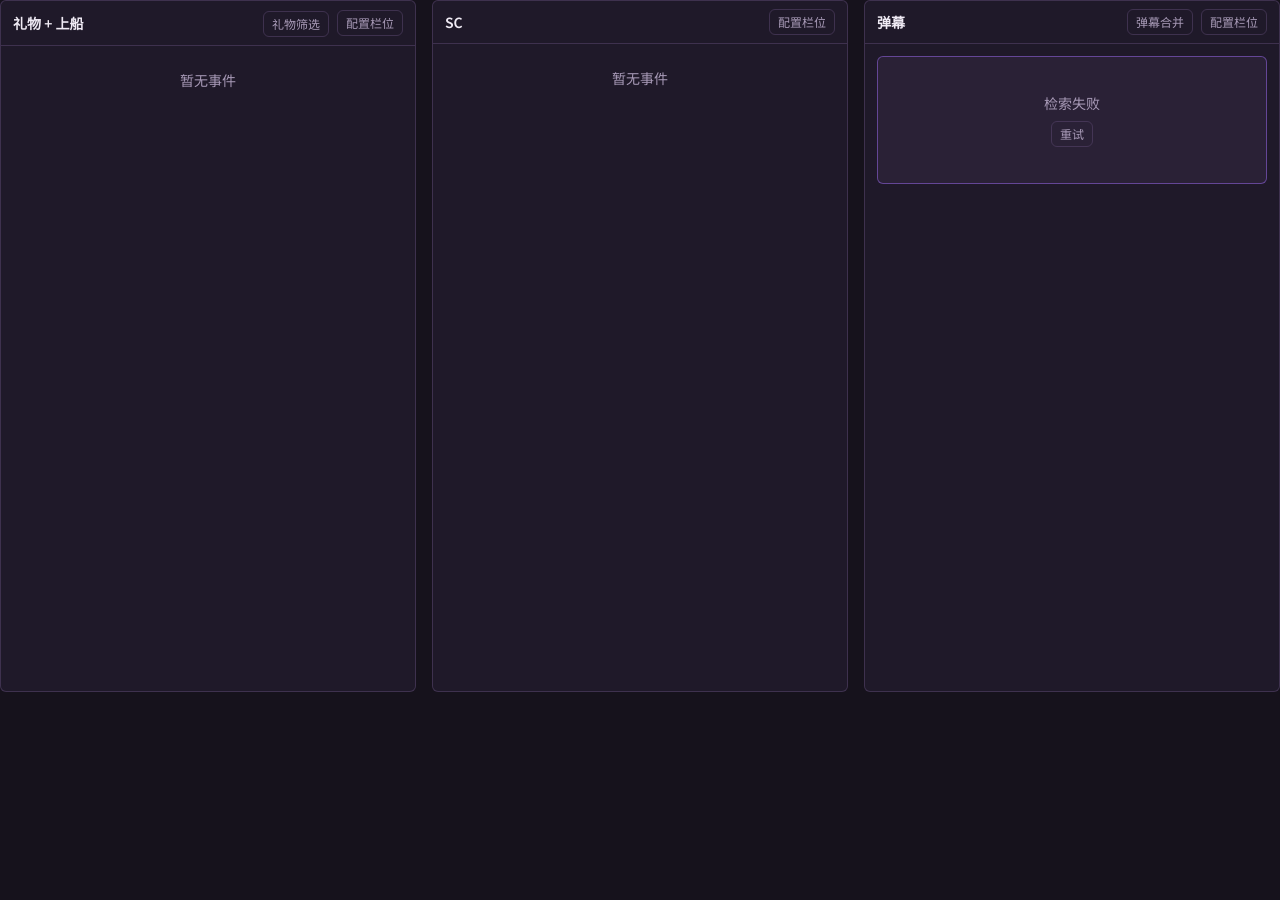
Test case: DanmakuDashboard › 历史检索失败后点击重试，重新检索并恢复该栏
The width and height of the screenshot is (1280, 900).
Click the button "重试" at coordinates (1072, 134), box top-left (1051, 121), bottom-right (1093, 147)
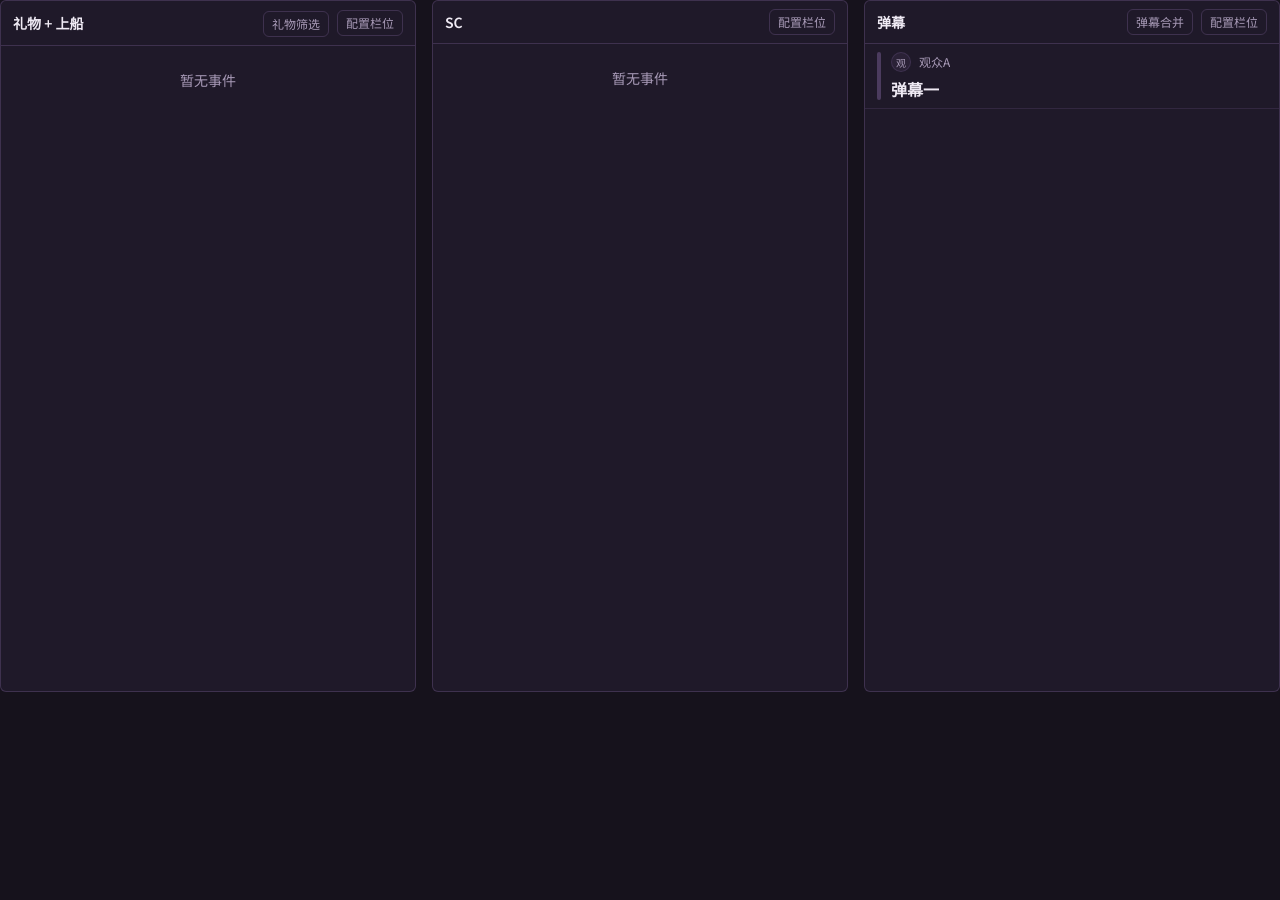
Check: the text "弹幕一" is shown, box top-left (891, 77), bottom-right (939, 101)
Check: the text "检索失败" is gone
